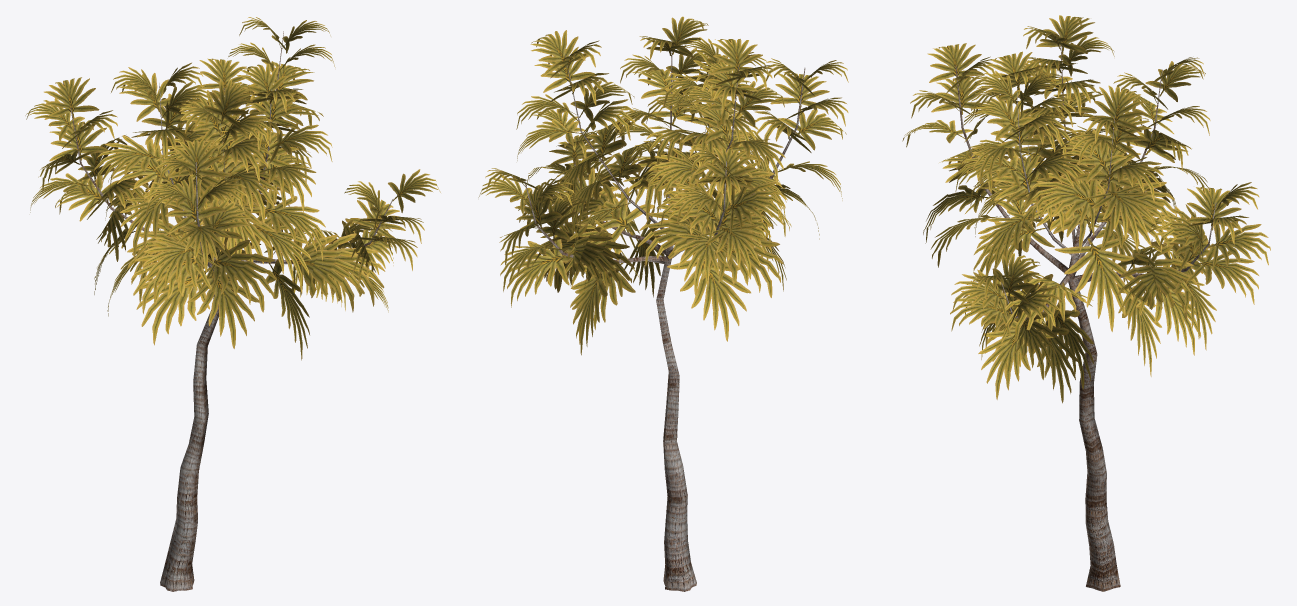
File: sandjungletreelarge03.fbx
3 views of the same model, side by side, from view 1: azimuth 30°, elevation 25°; view 2: azimuth 150°, elevation 25°; view 3: azimuth 270°, elevation 25° (orthographic). The views are drawn at different scales.
Parts seen in each view (by area): view 1: Tree_0Shape1; view 2: Tree_0Shape1; view 3: Tree_0Shape1.
Part boxes in pixels (box(x1,y1,x2,y2)): Tree_0Shape1: box(25, 17, 440, 591); Tree_0Shape1: box(478, 16, 848, 591); Tree_0Shape1: box(902, 15, 1270, 591).
Size of the model in its own units: 99.28 by 150 by 98.29.
